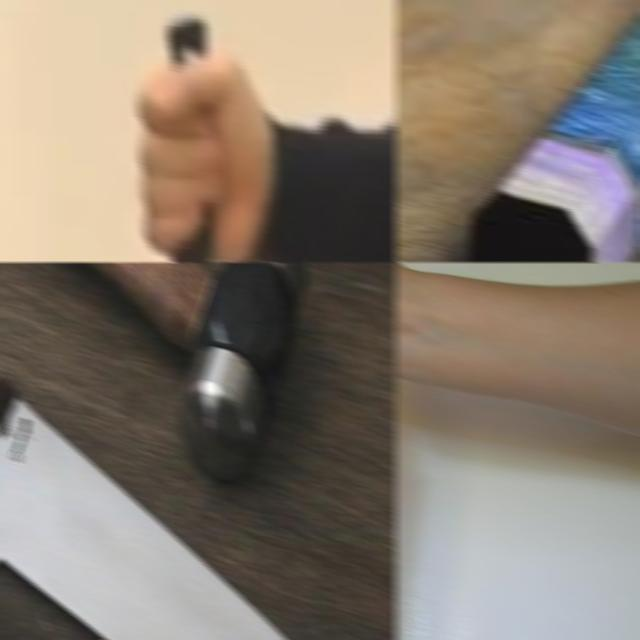Knife: (0, 376, 289, 640), (161, 12, 220, 262)
Knife_Handle: (136, 19, 274, 262)
